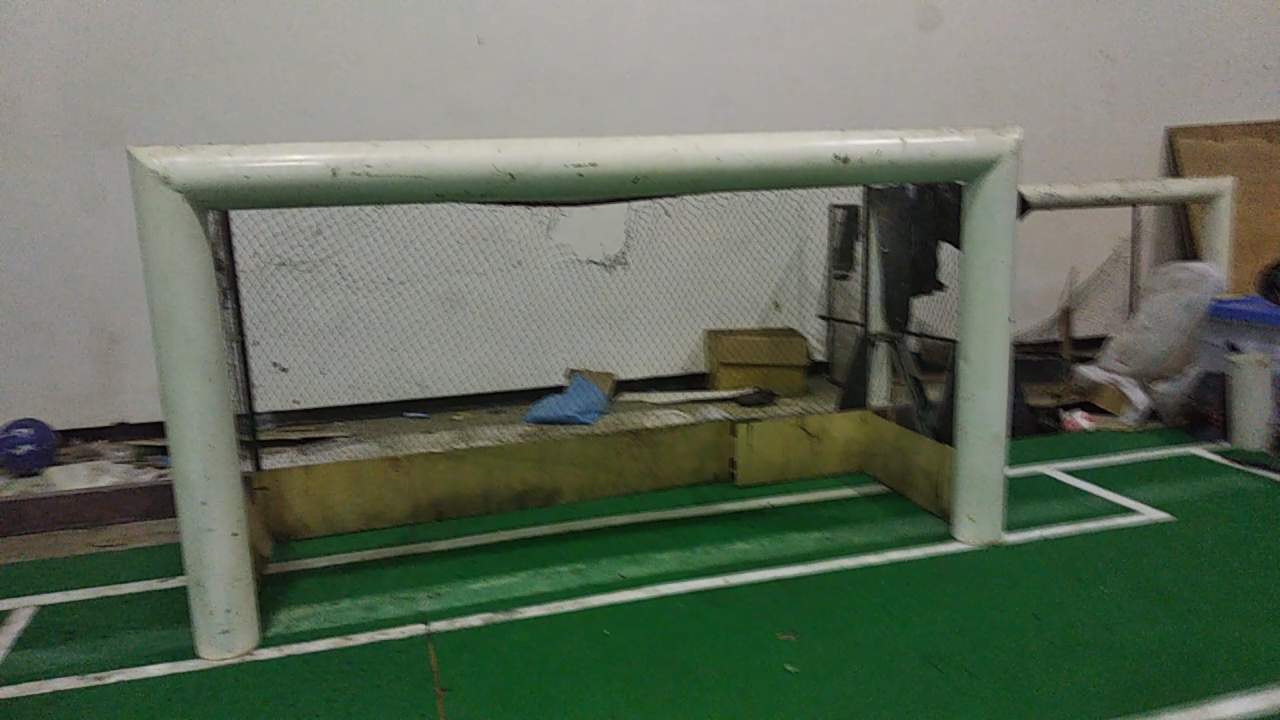gawang: (112, 109, 1032, 664)
